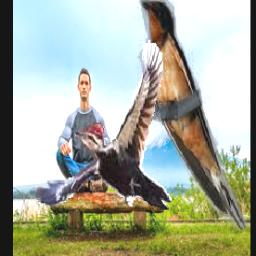Swallow: (137, 0, 250, 232)
Woodpecker: (31, 40, 172, 210)
